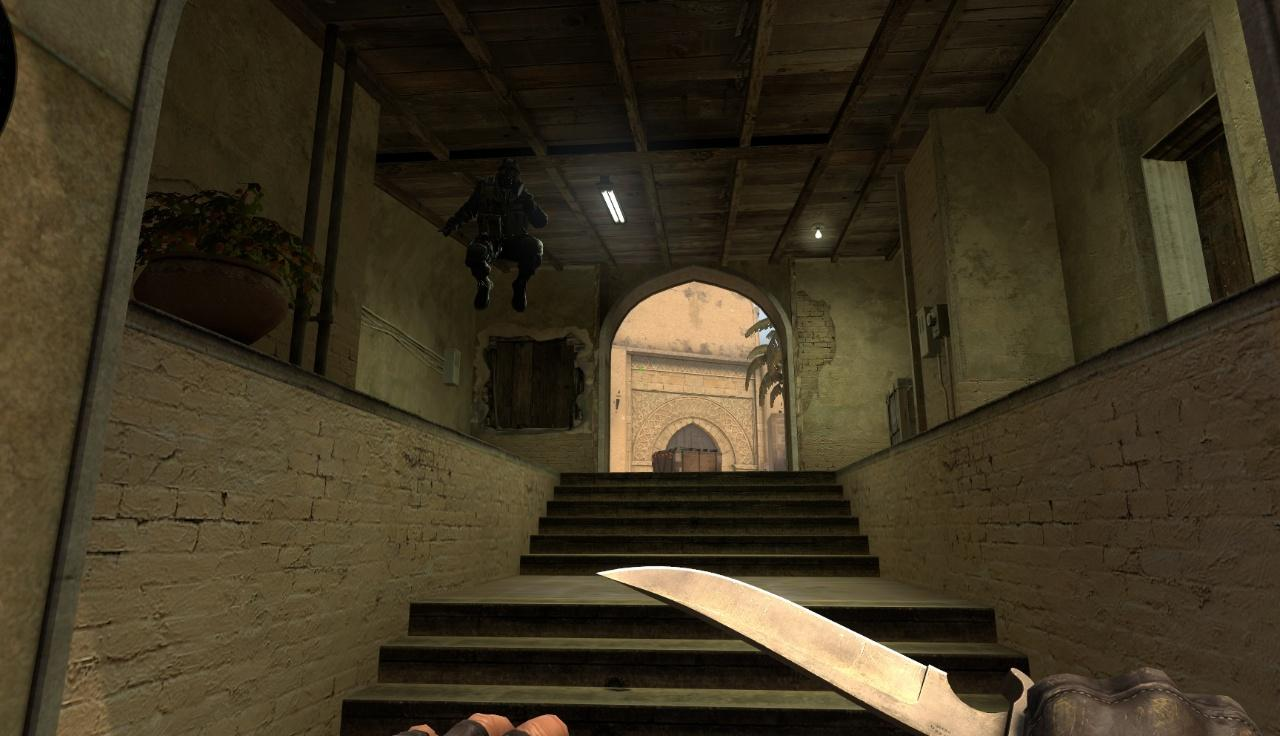ct: (456, 158, 547, 311)
cthead: (495, 157, 522, 189)
